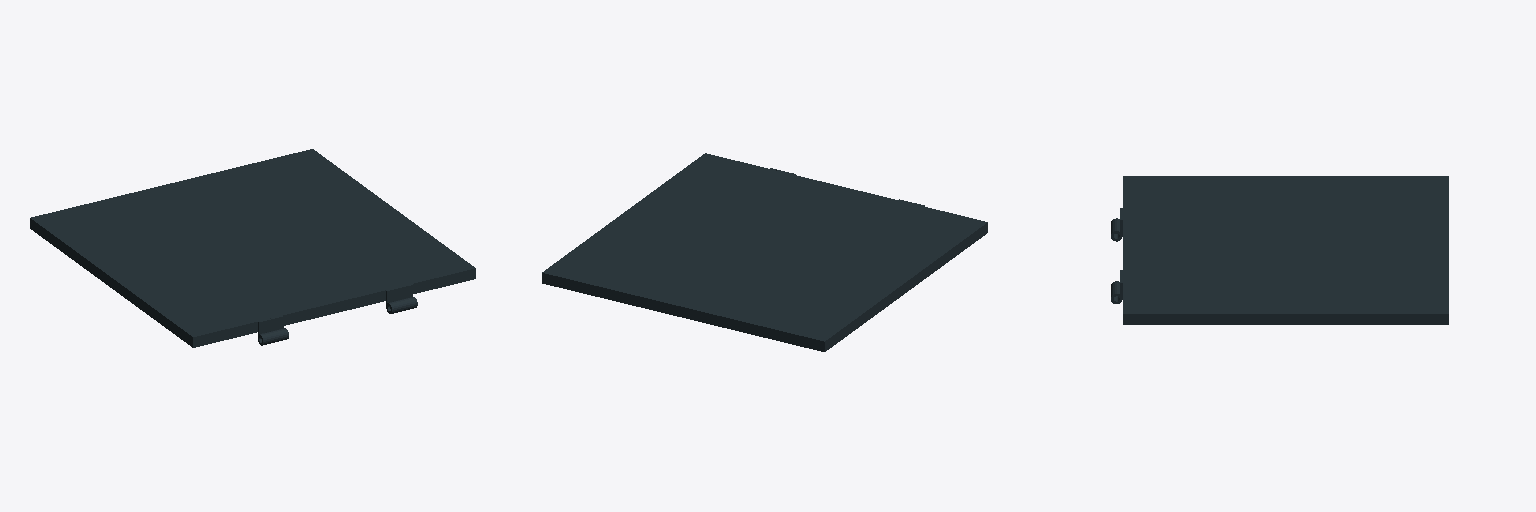
Rendered from box_couvercle.obj.
The picture shows the model from 3 angles: view 1: azimuth 30°, elevation 25°; view 2: azimuth 150°, elevation 25°; view 3: azimuth 270°, elevation 25°; orthographic projection.
Visible parts, largest first — view 1: couvercle_boite.obj; view 2: couvercle_boite.obj; view 3: couvercle_boite.obj.
Part boxes in pixels (x1,y1,x2,y2): couvercle_boite.obj: (30,149,475,347); couvercle_boite.obj: (542,153,987,351); couvercle_boite.obj: (1111,176,1448,324).
Size of the model in its own units: 550 by 40 by 570.